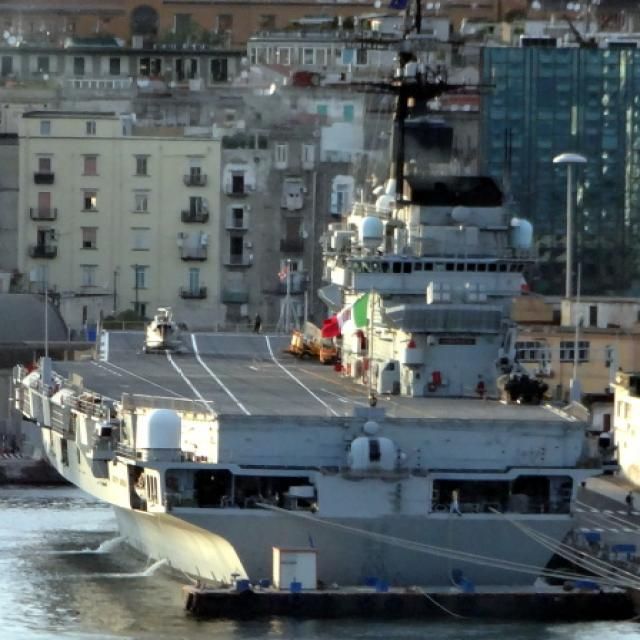Portanaves: (10, 1, 598, 586)
